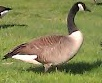goose: (2, 2, 94, 74)
